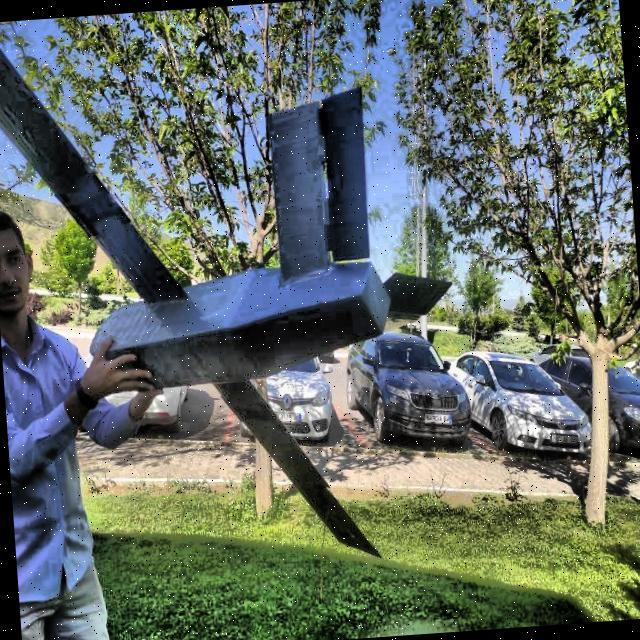iha: (0, 0, 448, 577)
